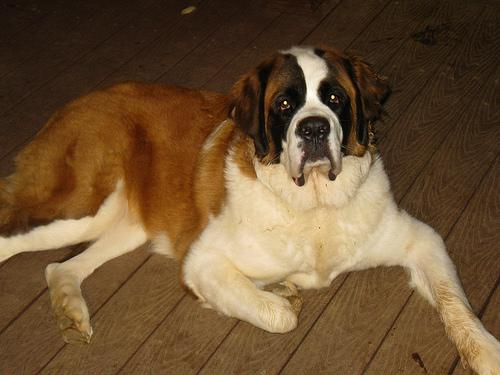dog-saint_bernard: (227, 46, 387, 184)
